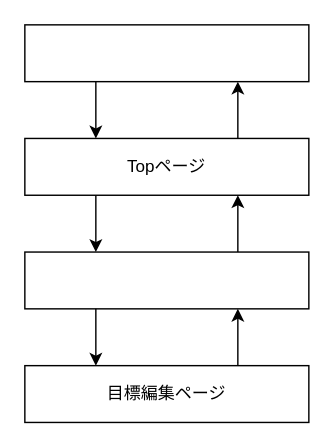
This 334x447 diagram has some shape labels left out. Each missing label, with the centre of its shape:
"サインインページ/ログインページ" belongs at (x=166, y=52).
"マイページ・目標設定/目標一覧" belongs at (x=166, y=280).
